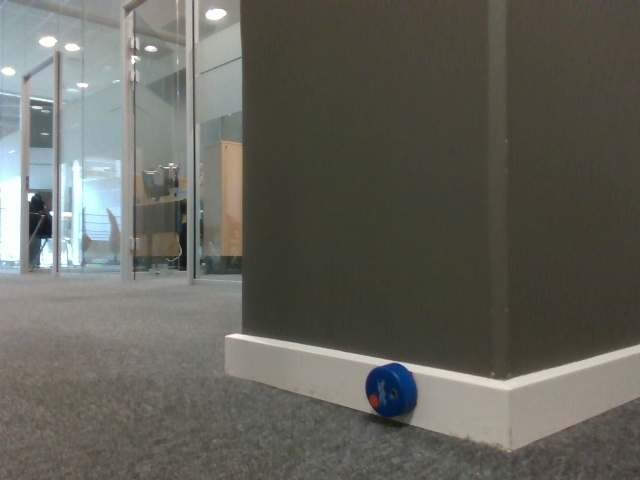alfa: (362, 357, 420, 425)
